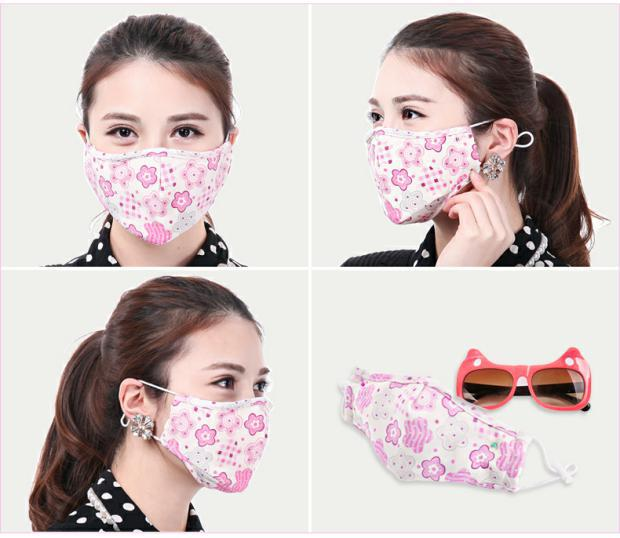OK: (138, 351, 278, 491), (89, 107, 222, 240), (370, 84, 500, 214)
